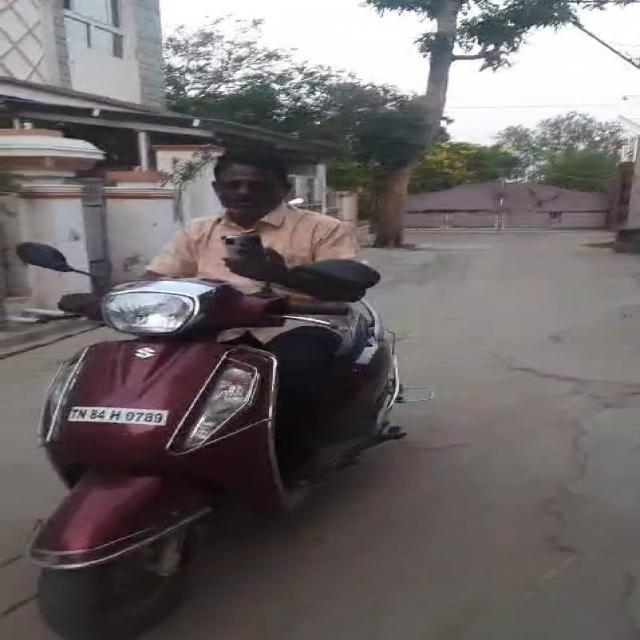USING_MOBILE: (210, 148, 296, 281)
